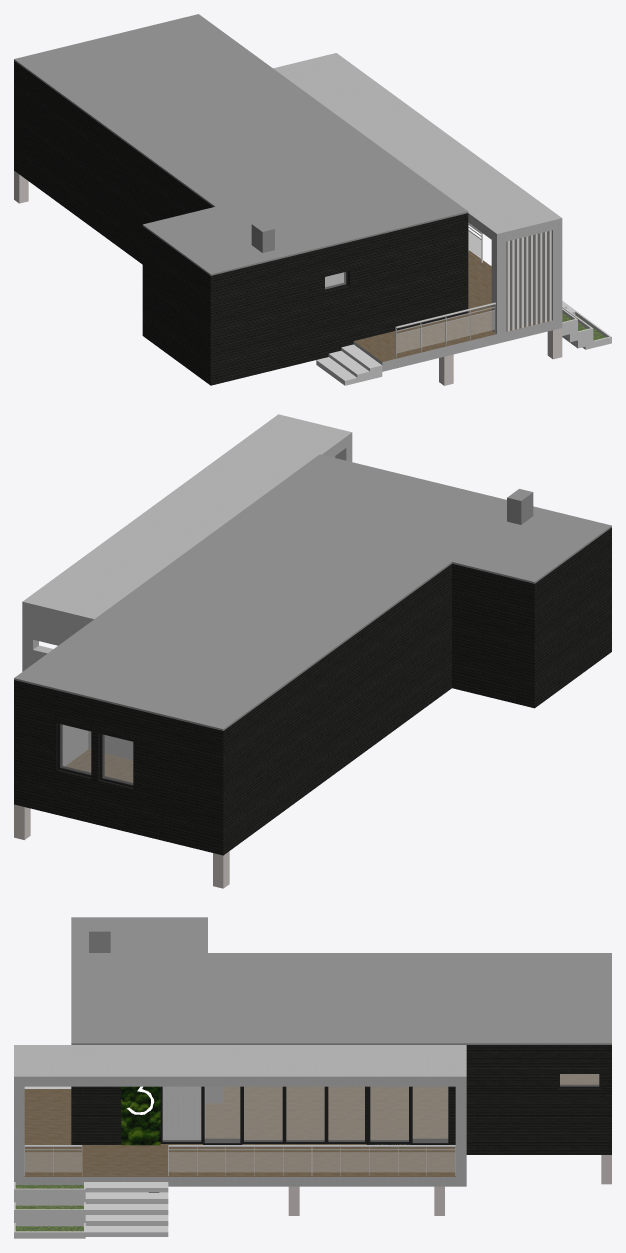
Rendered from Module1+2+3.glb.
3 renders of one model, top to bottom at view 1: azimuth 30°, elevation 25°; view 2: azimuth 150°, elevation 25°; view 3: azimuth 270°, elevation 25°, orthographic. The views are drawn at different scales.
Visible parts, largest first — view 1: Этаж по умолчанию, Темное дерево, Штукатурка, Пол деревянное покрытие, Сталь, углеродистая, Бетон - Керамзитобетонные блоки, Стекло, Бетон, монолитный, DEFAULT, Стена по умолчанию; view 2: Темное дерево, Этаж по умолчанию, Штукатурка, Стекло, Бетон, монолитный, Пол деревянное покрытие, Черный, Стена по умолчанию; view 3: Этаж по умолчанию, Пол деревянное покрытие, Штукатурка, Стекло, Темное дерево, Бетон - Керамзитобетонные блоки, Черный, DEFAULT, Живая стена, Пол плитка, Трава, Бетон, монолитный (+1 smaller).
Part boxes in pixels (x1=…): Этаж по умолчанию: x1=14, y1=14, x2=576, y2=347; Темное дерево: x1=14, y1=61, x2=468, y2=385; Штукатурка: x1=273, y1=53, x2=562, y2=371; Пол деревянное покрытие: x1=354, y1=250, x2=552, y2=361; Сталь, углеродистая: x1=506, y1=230, x2=551, y2=331; Бетон - Керамзитобетонные блоки: x1=316, y1=265, x2=611, y2=385; Стекло: x1=325, y1=231, x2=494, y2=352; Бетон, монолитный: x1=14, y1=171, x2=562, y2=385; DEFAULT: x1=395, y1=223, x2=495, y2=334; Стена по умолчанию: x1=251, y1=221, x2=274, y2=252; Темное дерево: x1=14, y1=527, x2=611, y2=855; Этаж по умолчанию: x1=14, y1=454, x2=611, y2=730; Штукатурка: x1=22, y1=414, x2=352, y2=766; Стекло: x1=60, y1=724, x2=132, y2=784; Бетон, монолитный: x1=14, y1=804, x2=229, y2=888; Пол деревянное покрытие: x1=65, y1=749, x2=133, y2=782; Черный: x1=57, y1=723, x2=133, y2=787; Стена по умолчанию: x1=507, y1=489, x2=533, y2=524; Этаж по умолчанию: x1=71, y1=917, x2=611, y2=1044; Пол деревянное покрытие: x1=24, y1=1074, x2=599, y2=1176; Штукатурка: x1=14, y1=1045, x2=466, y2=1186; Стекло: x1=25, y1=1074, x2=598, y2=1171; Темное дерево: x1=71, y1=1045, x2=611, y2=1192; Бетон - Керамзитобетонные блоки: x1=14, y1=1086, x2=168, y2=1238; Черный: x1=160, y1=1073, x2=601, y2=1144; DEFAULT: x1=24, y1=1145, x2=455, y2=1153; Живая стена: x1=121, y1=1086, x2=160, y2=1145; Пол плитка: x1=162, y1=1086, x2=205, y2=1139; Трава: x1=15, y1=1185, x2=83, y2=1231; Бетон, монолитный: x1=288, y1=1155, x2=611, y2=1215.
Size of the model in its own units: 12 by 4.98 by 16.65.
Materials: 19 (9 with a texture image).
